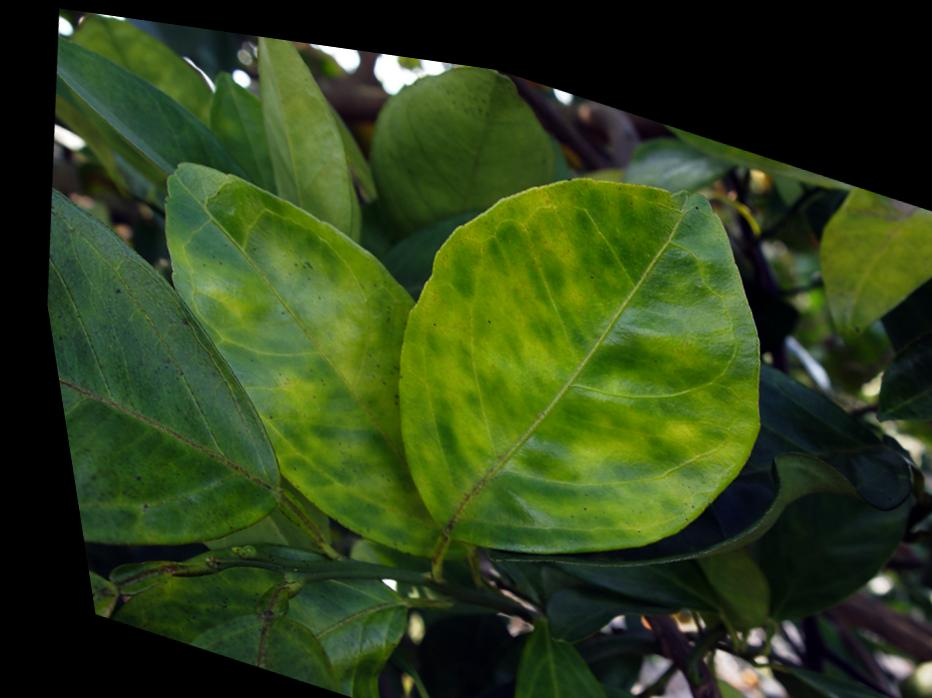Citrus Greening: (319, 86, 813, 629), (92, 139, 508, 567), (345, 38, 585, 255), (195, 22, 400, 227), (784, 146, 932, 343), (636, 97, 842, 179)
